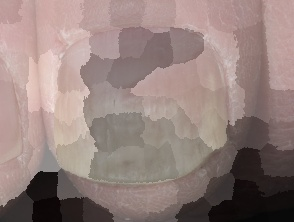Nail_psoriasis: (44, 7, 252, 222), (0, 14, 34, 215)
